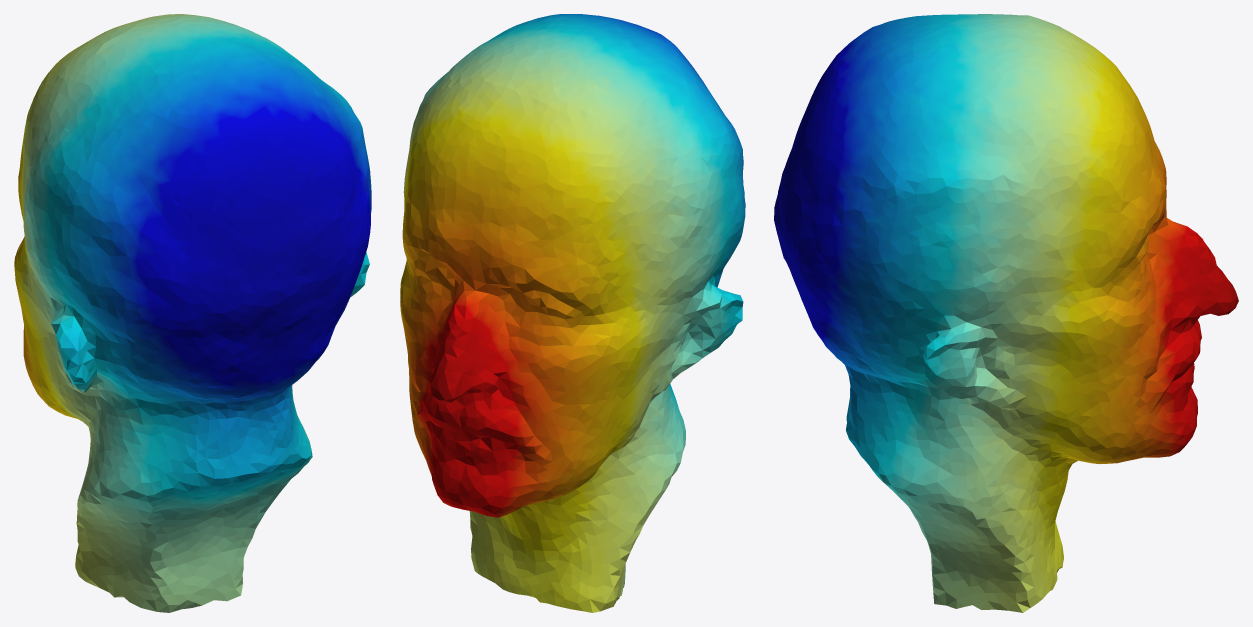
The model's file is max_ours_poisson.glb.
3 views of the same model, side by side, from view 1: azimuth 30°, elevation 25°; view 2: azimuth 150°, elevation 25°; view 3: azimuth 270°, elevation 25° (orthographic). The views are drawn at different scales.
Parts seen in each view (by area): view 1: max.obj; view 2: max.obj; view 3: max.obj.
Part boxes in pixels (box(x1,y1,x2,y2)): max.obj: box(14, 14, 371, 612); max.obj: box(400, 14, 745, 612); max.obj: box(774, 14, 1238, 612).
Bounding box in the file's own units: 0.8825 × 1.49 × 1.12.
